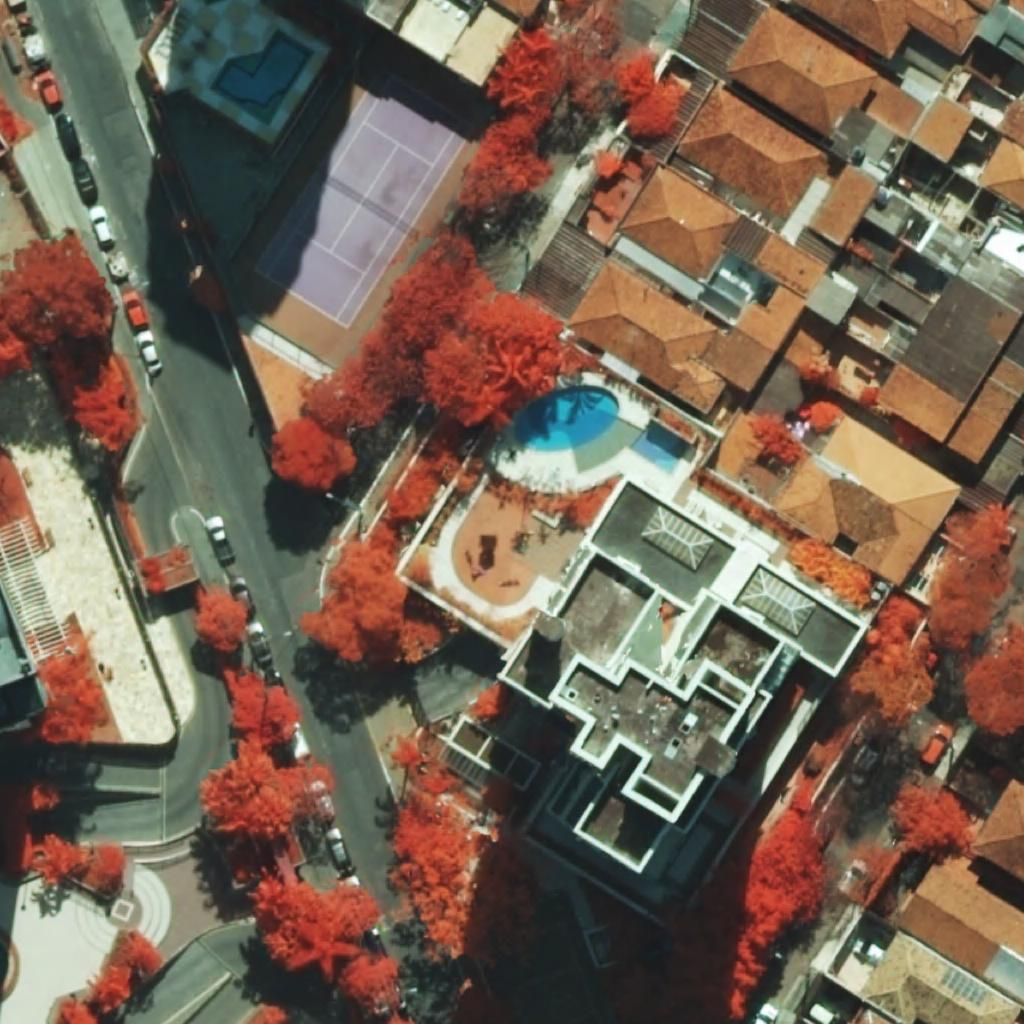pool: (210, 29, 313, 125), (514, 386, 619, 452), (630, 420, 689, 474)
